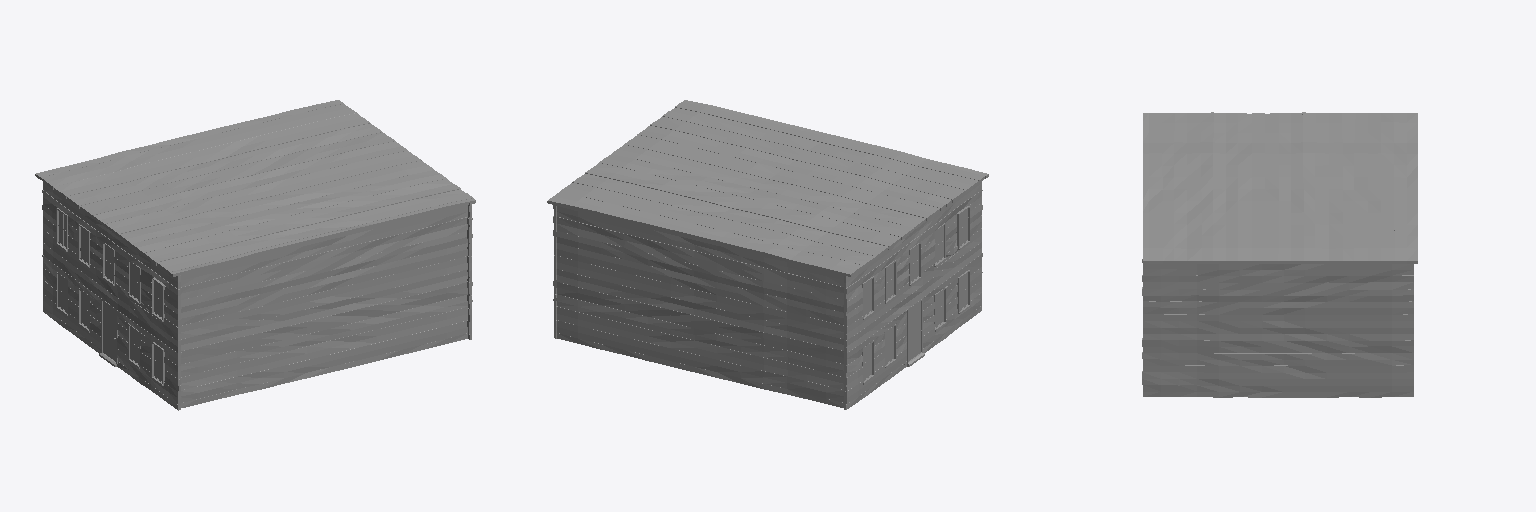
File: Bank.obj
3 views of the same model, side by side, from view 1: azimuth 30°, elevation 25°; view 2: azimuth 150°, elevation 25°; view 3: azimuth 270°, elevation 25° (orthographic).
Visible parts, largest first — view 1: WildWest_Bank_Roof, WildWest_Bank_Wall04, WildWest_Bank_Wall01, WildWest_Bank_Glass, WildWest_Bank_Door01, WildWest_Bank_Wall03; view 2: WildWest_Bank_Roof, WildWest_Bank_Wall02, WildWest_Bank_Wall01, WildWest_Bank_Glass, WildWest_Bank_Door01; view 3: WildWest_Bank_Roof, WildWest_Bank_Wall03.
Boxes of the visible parts, box(x1,y1,x2,y2) form: WildWest_Bank_Roof: box(35, 100, 475, 276); WildWest_Bank_Wall04: box(181, 206, 467, 407); WildWest_Bank_Wall01: box(42, 182, 181, 410); WildWest_Bank_Glass: box(59, 211, 161, 380); WildWest_Bank_Door01: box(103, 302, 115, 361); WildWest_Bank_Wall03: box(467, 203, 472, 339); WildWest_Bank_Roof: box(547, 100, 988, 276); WildWest_Bank_Wall02: box(557, 206, 843, 407); WildWest_Bank_Wall01: box(843, 182, 982, 409); WildWest_Bank_Glass: box(864, 209, 967, 379); WildWest_Bank_Door01: box(908, 302, 921, 361); WildWest_Bank_Roof: box(1143, 112, 1417, 263); WildWest_Bank_Wall03: box(1142, 259, 1413, 397).
Bounding box in the file's own units: 14.31 × 6.34 × 11.22.